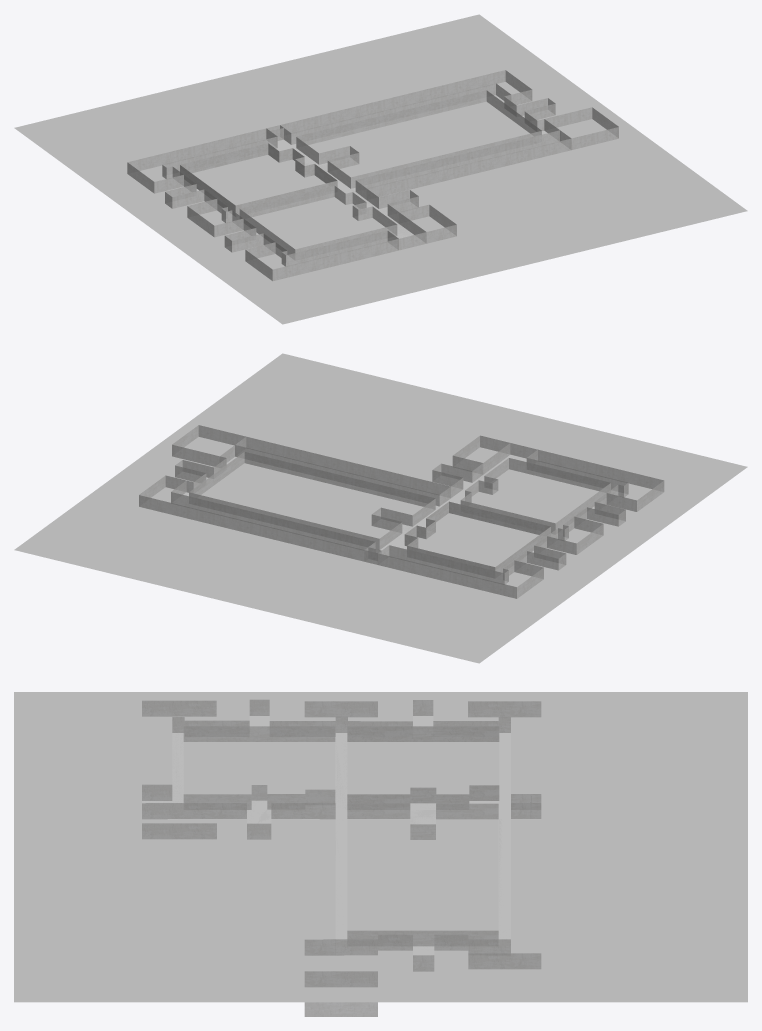
Rendered from Tietotalo1_3krs_seperate_floors_walkable_new.fbx.
3 renders of one model, top to bottom at view 1: azimuth 30°, elevation 25°; view 2: azimuth 150°, elevation 25°; view 3: azimuth 270°, elevation 25°, orthographic. The views are drawn at different scales.
Visible parts, largest first — view 1: Floor, Walls_outer, Walls_inner3, FloorsWalkable, Walls_inner1, Walls_inner2; view 2: Floor, Walls_outer, Walls_inner3, FloorsWalkable, Walls_inner2, Walls_inner1; view 3: Floor, Walls_outer, FloorsWalkable, Walls_inner3, Walls_inner2, Walls_inner1.
Boxes of the visible parts, <box> form: Floor: <box>14,14,747,324</box>; Walls_outer: <box>127,70,618,281</box>; Walls_inner3: <box>296,90,541,188</box>; FloorsWalkable: <box>163,96,558,265</box>; Walls_inner1: <box>239,185,397,259</box>; Walls_inner2: <box>180,143,337,216</box>; Floor: <box>14,353,747,663</box>; Walls_outer: <box>139,425,664,598</box>; Walls_inner3: <box>189,451,435,549</box>; FloorsWalkable: <box>173,455,625,583</box>; Walls_inner2: <box>404,501,550,577</box>; Walls_inner1: <box>460,458,610,533</box>; Floor: <box>14,692,747,1002</box>; Walls_outer: <box>142,699,541,1016</box>; FloorsWalkable: <box>142,716,530,971</box>; Walls_inner3: <box>347,803,498,946</box>; Walls_inner2: <box>347,726,499,809</box>; Walls_inner1: <box>183,726,335,809</box>.
Bounding box in the file's own units: 1470 × 101 × 1470.
